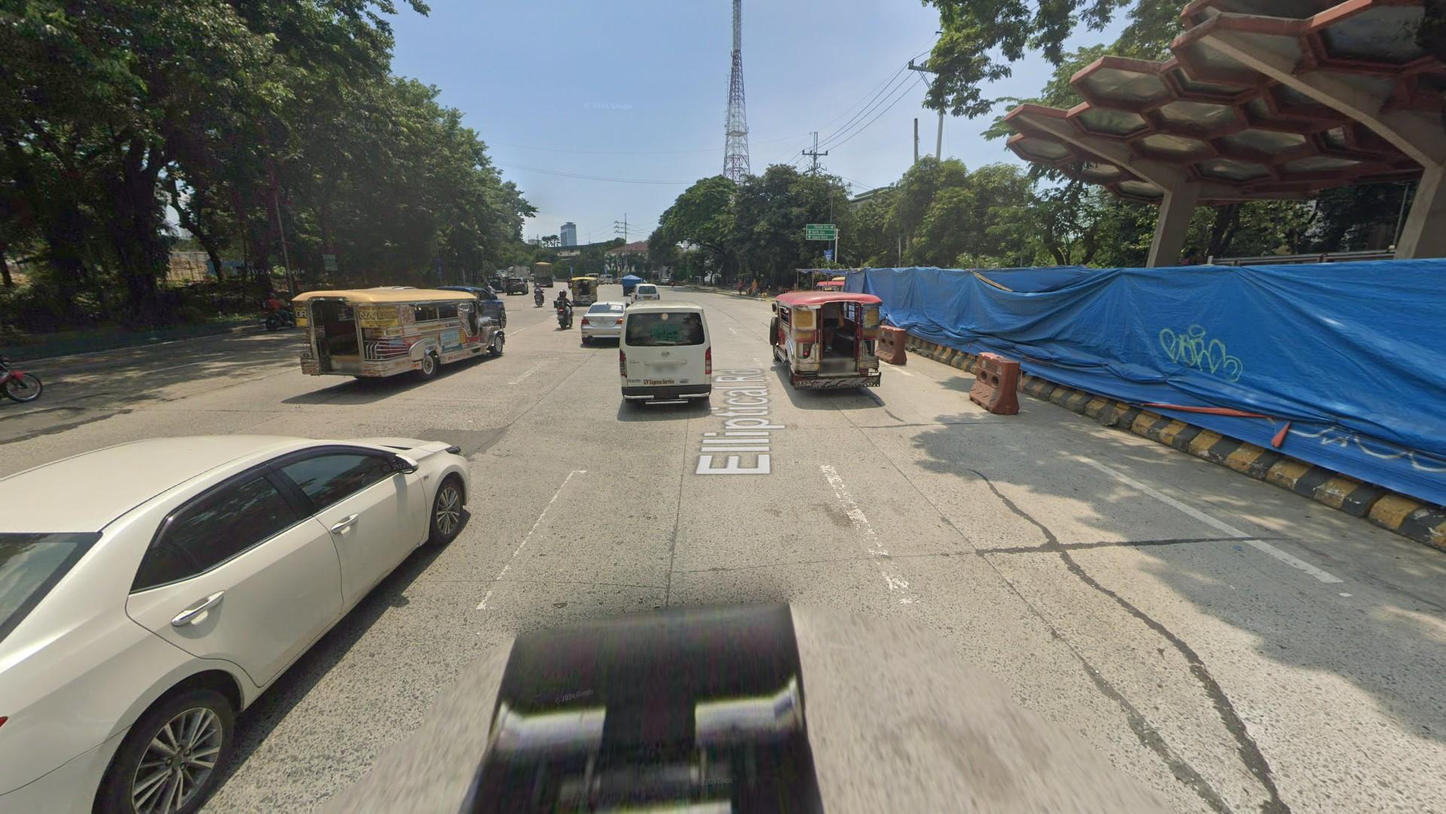pedestrian: (755, 274, 764, 295), (749, 278, 758, 298), (736, 277, 744, 296), (763, 275, 771, 294)
